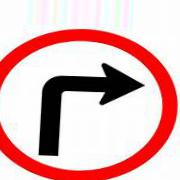right: (1, 29, 178, 180)
